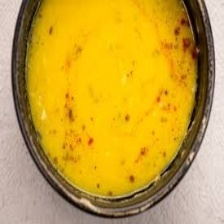dal: (22, 1, 202, 199)
